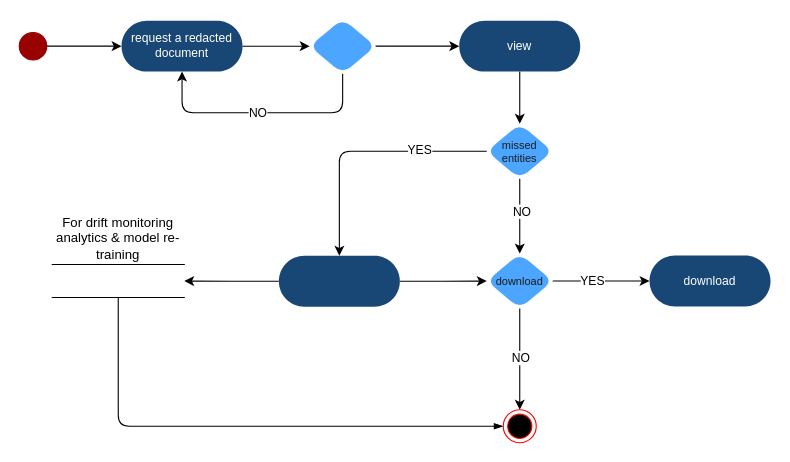
Image size: 790x462. Some labels were removed from this diagram. The shapes that lost their labels are listed below. From the top down, each one's centre as x and y in pixels, then its label:
At point (342, 45): "exists".
At point (338, 280): "annotate missed enities".
